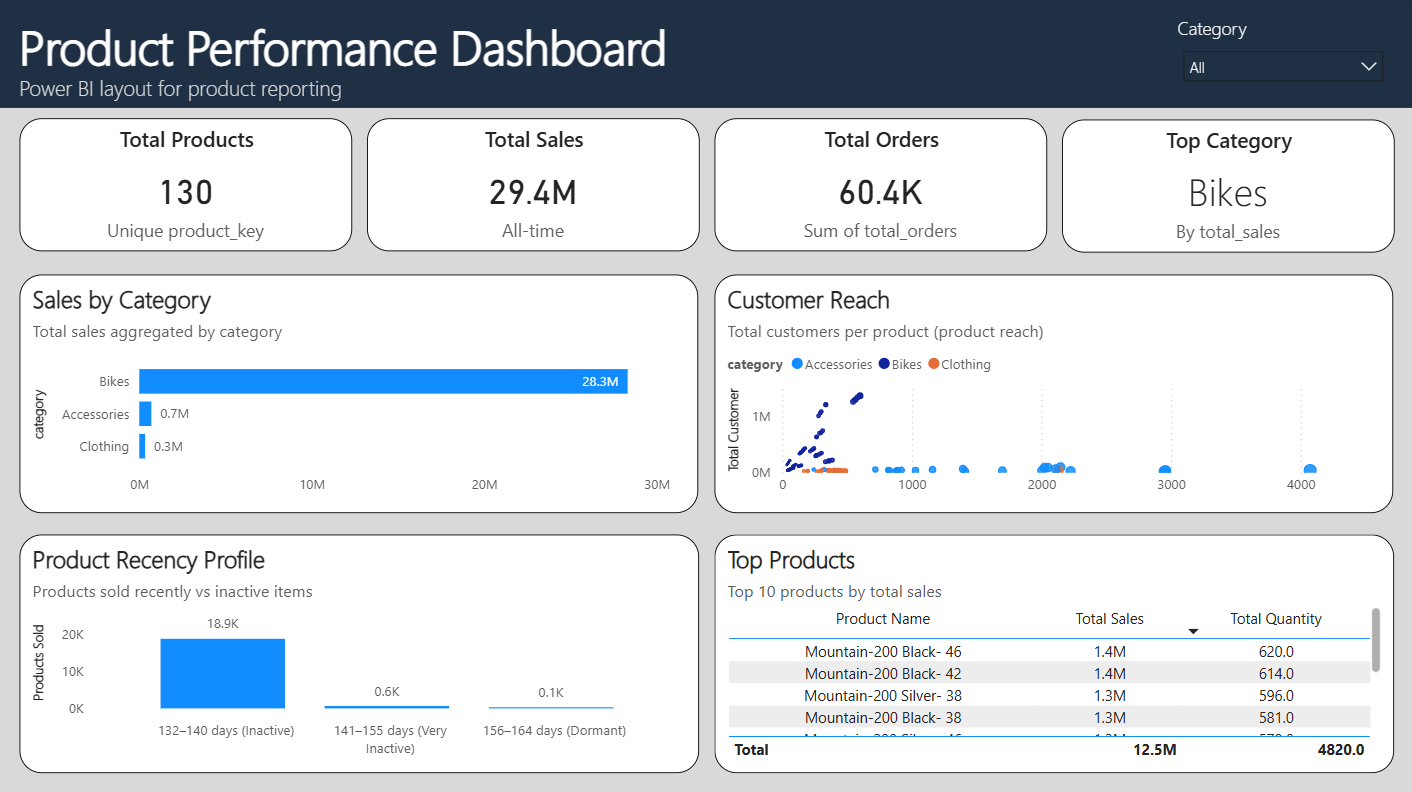

This screenshot's page, from the dashboard's own definition file:
{"tool":"powerbi","page":{"name":"Product Performance","canvas":[1280,720],"ordinal":1},"visuals":[{"type":"shape","box":[0,0,1280,100],"z":0},{"type":"card","title":"Total Products","fields":{"Values":["report_products.Total Products"]},"box":[20,109.6,300,120],"z":1000},{"type":"card","title":"Total Sales","fields":{"Values":["report_products.Total Product Sales"]},"box":[333.3,109.6,300,120],"z":2000},{"type":"card","title":"Top Category","fields":{"Values":["report_products.Top Category"]},"box":[960,110,300,120],"z":3000},{"type":"card","title":"Total Orders","fields":{"Values":["report_products.Total Product Orders"]},"box":[646.7,109.6,300,120],"z":4000},{"type":"textbox","box":[0,64.4,1280,34.4],"z":5000},{"type":"textbox","box":[0,10,1280,70],"z":6000},{"type":"slicer","title":"Category","fields":{"Values":["report_products.category"]},"box":[1060,17,200,66],"z":7000},{"type":"clusteredColumnChart","title":"Product Recency Profile","fields":{"Y":["Sum(report_products.product_key)"],"Category":["report_products.Recency Bucket"]},"box":[20,485,612.9,215],"z":8000},{"type":"tableEx","title":"Top Products","fields":{"Values":["report_products.product_name","Sum(report_products.total_sales)","Sum(report_products.total_quantity)"]},"box":[647.1,485,612.9,215],"z":9000},{"type":"clusteredBarChart","title":"Sales by Category","fields":{"Category":["report_products.category"],"Y":["Sum(report_products.total_sales)"]},"box":[20,250,612,215],"z":10000},{"type":"scatterChart","title":"Customer Reach","fields":{"X":["Sum(report_products.total_customers)"],"Y":["Sum(report_products.total_sales)"],"Category":["report_products.product_name"],"Size":["Sum(report_products.total_quantity)"],"Series":["report_products.category"]},"box":[647,250,612,215],"z":11000}]}

Visuals, with their boxes in screenshot pixels (x1, y1, x2, y2), scaled from the page's 1280x720 canvas onto the 1412x792 screenshot:
shape: (left=0, top=0, right=1411, bottom=110)
"Total Products" card: (left=22, top=121, right=353, bottom=253)
"Total Sales" card: (left=368, top=121, right=699, bottom=253)
"Top Category" card: (left=1059, top=121, right=1390, bottom=253)
"Total Orders" card: (left=713, top=121, right=1044, bottom=253)
textbox: (left=0, top=71, right=1411, bottom=109)
textbox: (left=0, top=11, right=1411, bottom=88)
"Category" slicer: (left=1169, top=19, right=1390, bottom=91)
"Product Recency Profile" clusteredColumnChart: (left=22, top=534, right=698, bottom=770)
"Top Products" tableEx: (left=714, top=534, right=1390, bottom=770)
"Sales by Category" clusteredBarChart: (left=22, top=275, right=697, bottom=512)
"Customer Reach" scatterChart: (left=714, top=275, right=1389, bottom=512)
